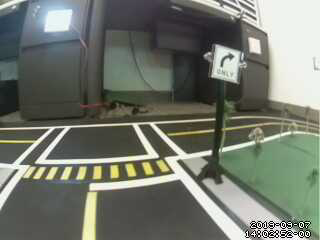Right_only_sign: (209, 43, 240, 85)
